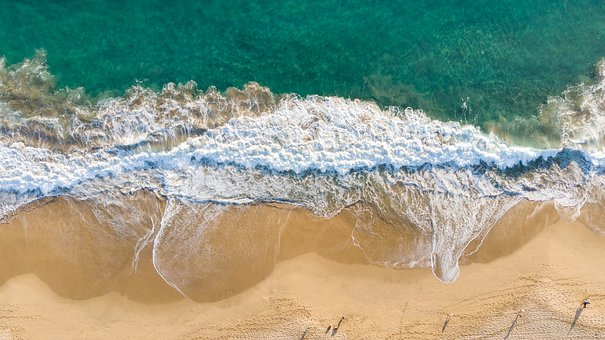sea: (2, 2, 605, 335)
